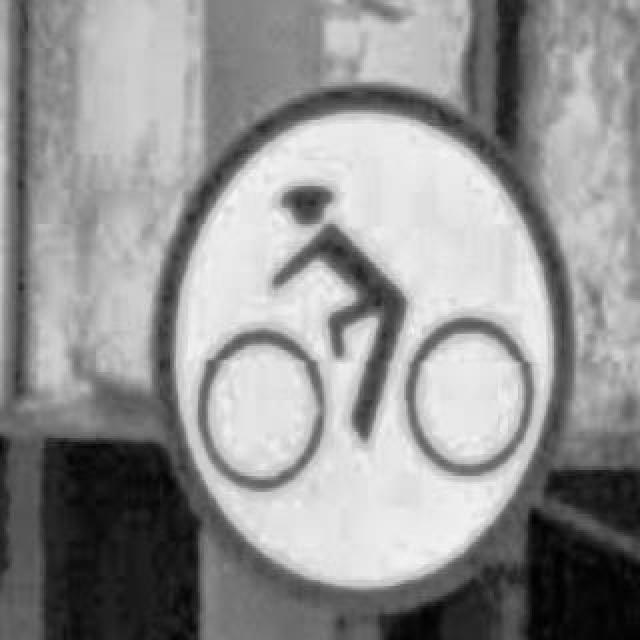bike lane: (152, 82, 574, 608)
